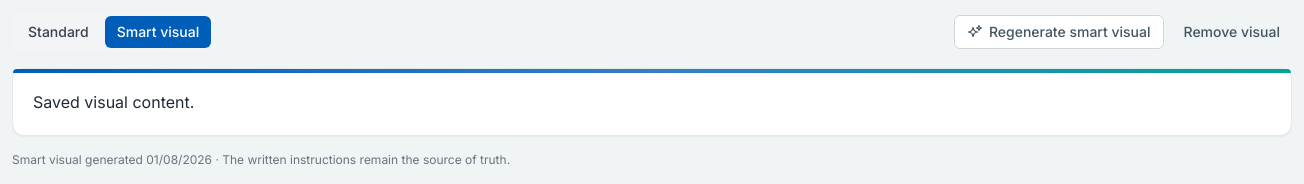
SymptomSmartVisualToggle default view › lets the reader switch back to the standard instructions
Click the button "Standard": (58, 32) [16,16,101,48]
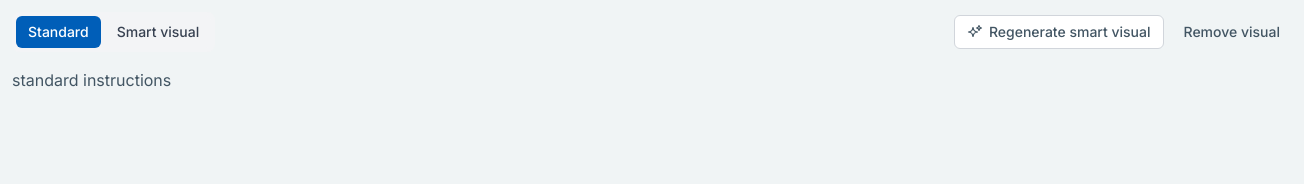
expect the text "standard instructions" is shown: met, box [12,70,171,90]
